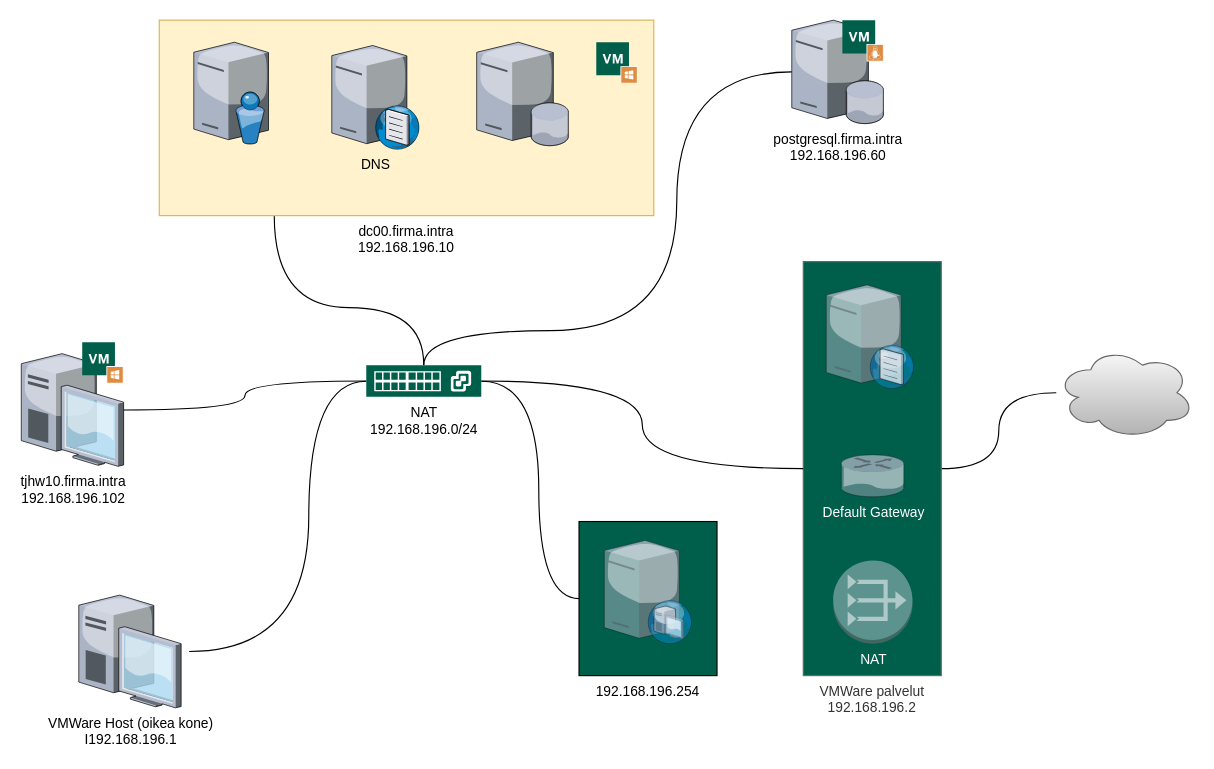
This 1214x769 diagram has some shape labels left out. The shapes that lost their labels are listed below. From the top down, each one's centre as x and y in pixels, then its label:
(x=230, y=92): AD
(x=522, y=93): MS SQL Server 2019
(x=870, y=335): VMWare DNS
(x=1124, y=392): Internet
(x=647, y=591): VMWare DHCP
